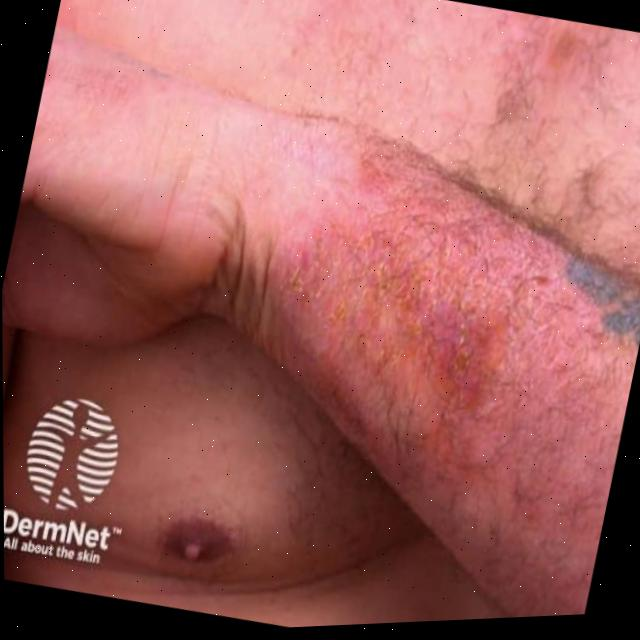Eczema: (306, 175, 640, 485), (441, 0, 640, 130)
